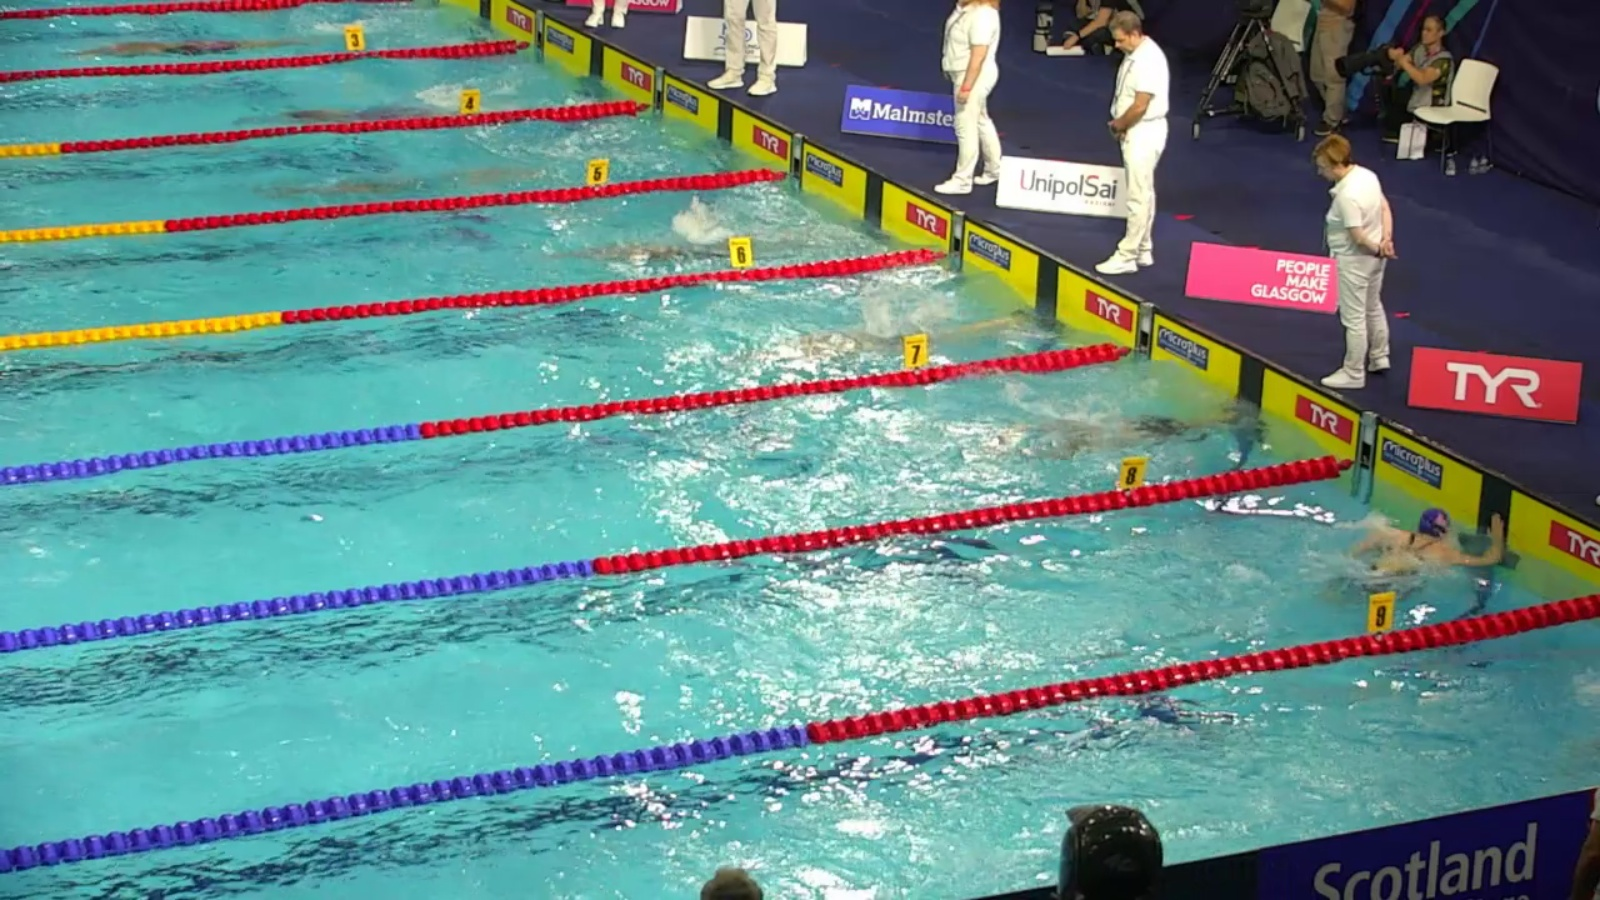swimmerw: (1329, 503, 1507, 615), (746, 304, 1035, 368), (533, 227, 795, 284), (999, 405, 1254, 462), (247, 163, 549, 204), (62, 32, 313, 63), (266, 93, 438, 127)
